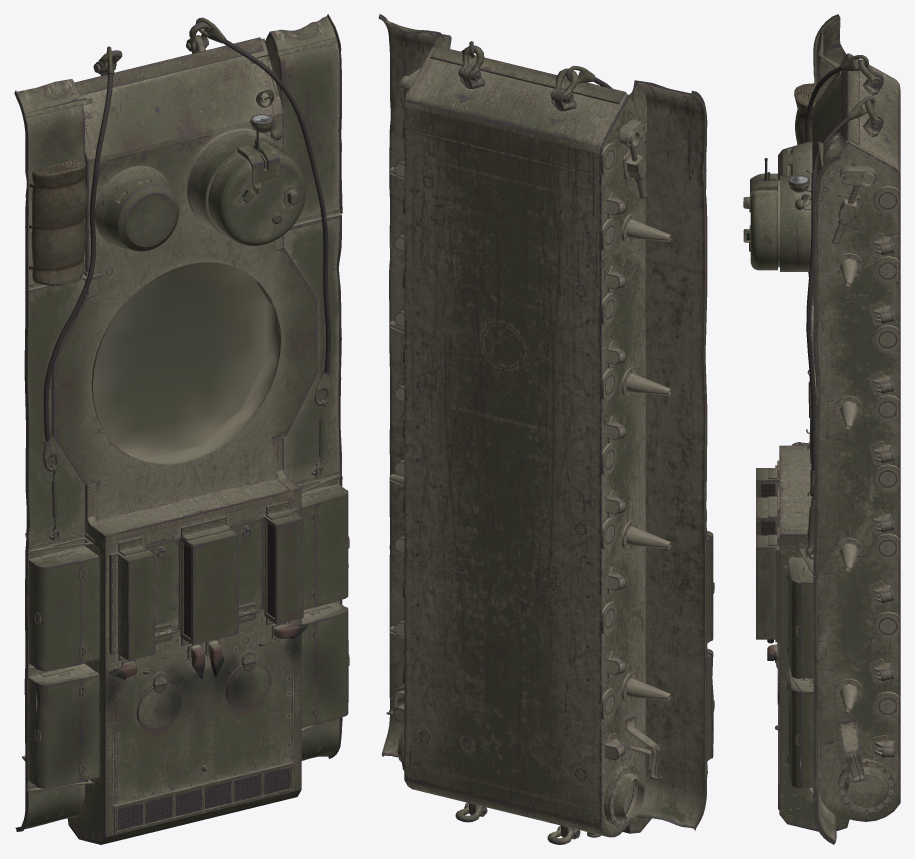
File: Hull.glb
The picture shows the model from 3 angles, left to right: view 1: azimuth 30°, elevation 25°; view 2: azimuth 150°, elevation 25°; view 3: azimuth 270°, elevation 25°; orthographic projection. The views are drawn at different scales.
Parts seen in each view (by area): view 1: set_0_group_0; view 2: set_0_group_0; view 3: set_0_group_0.
Boxes of the visible parts, x1=… form: set_0_group_0: x1=14, y1=14, x2=349, y2=844; set_0_group_0: x1=378, y1=14, x2=714, y2=844; set_0_group_0: x1=743, y1=14, x2=900, y2=844.
Bounding box in the file's own units: 3.58 × 8.37 × 1.66.
Materials: 1 (1 with a texture image).
